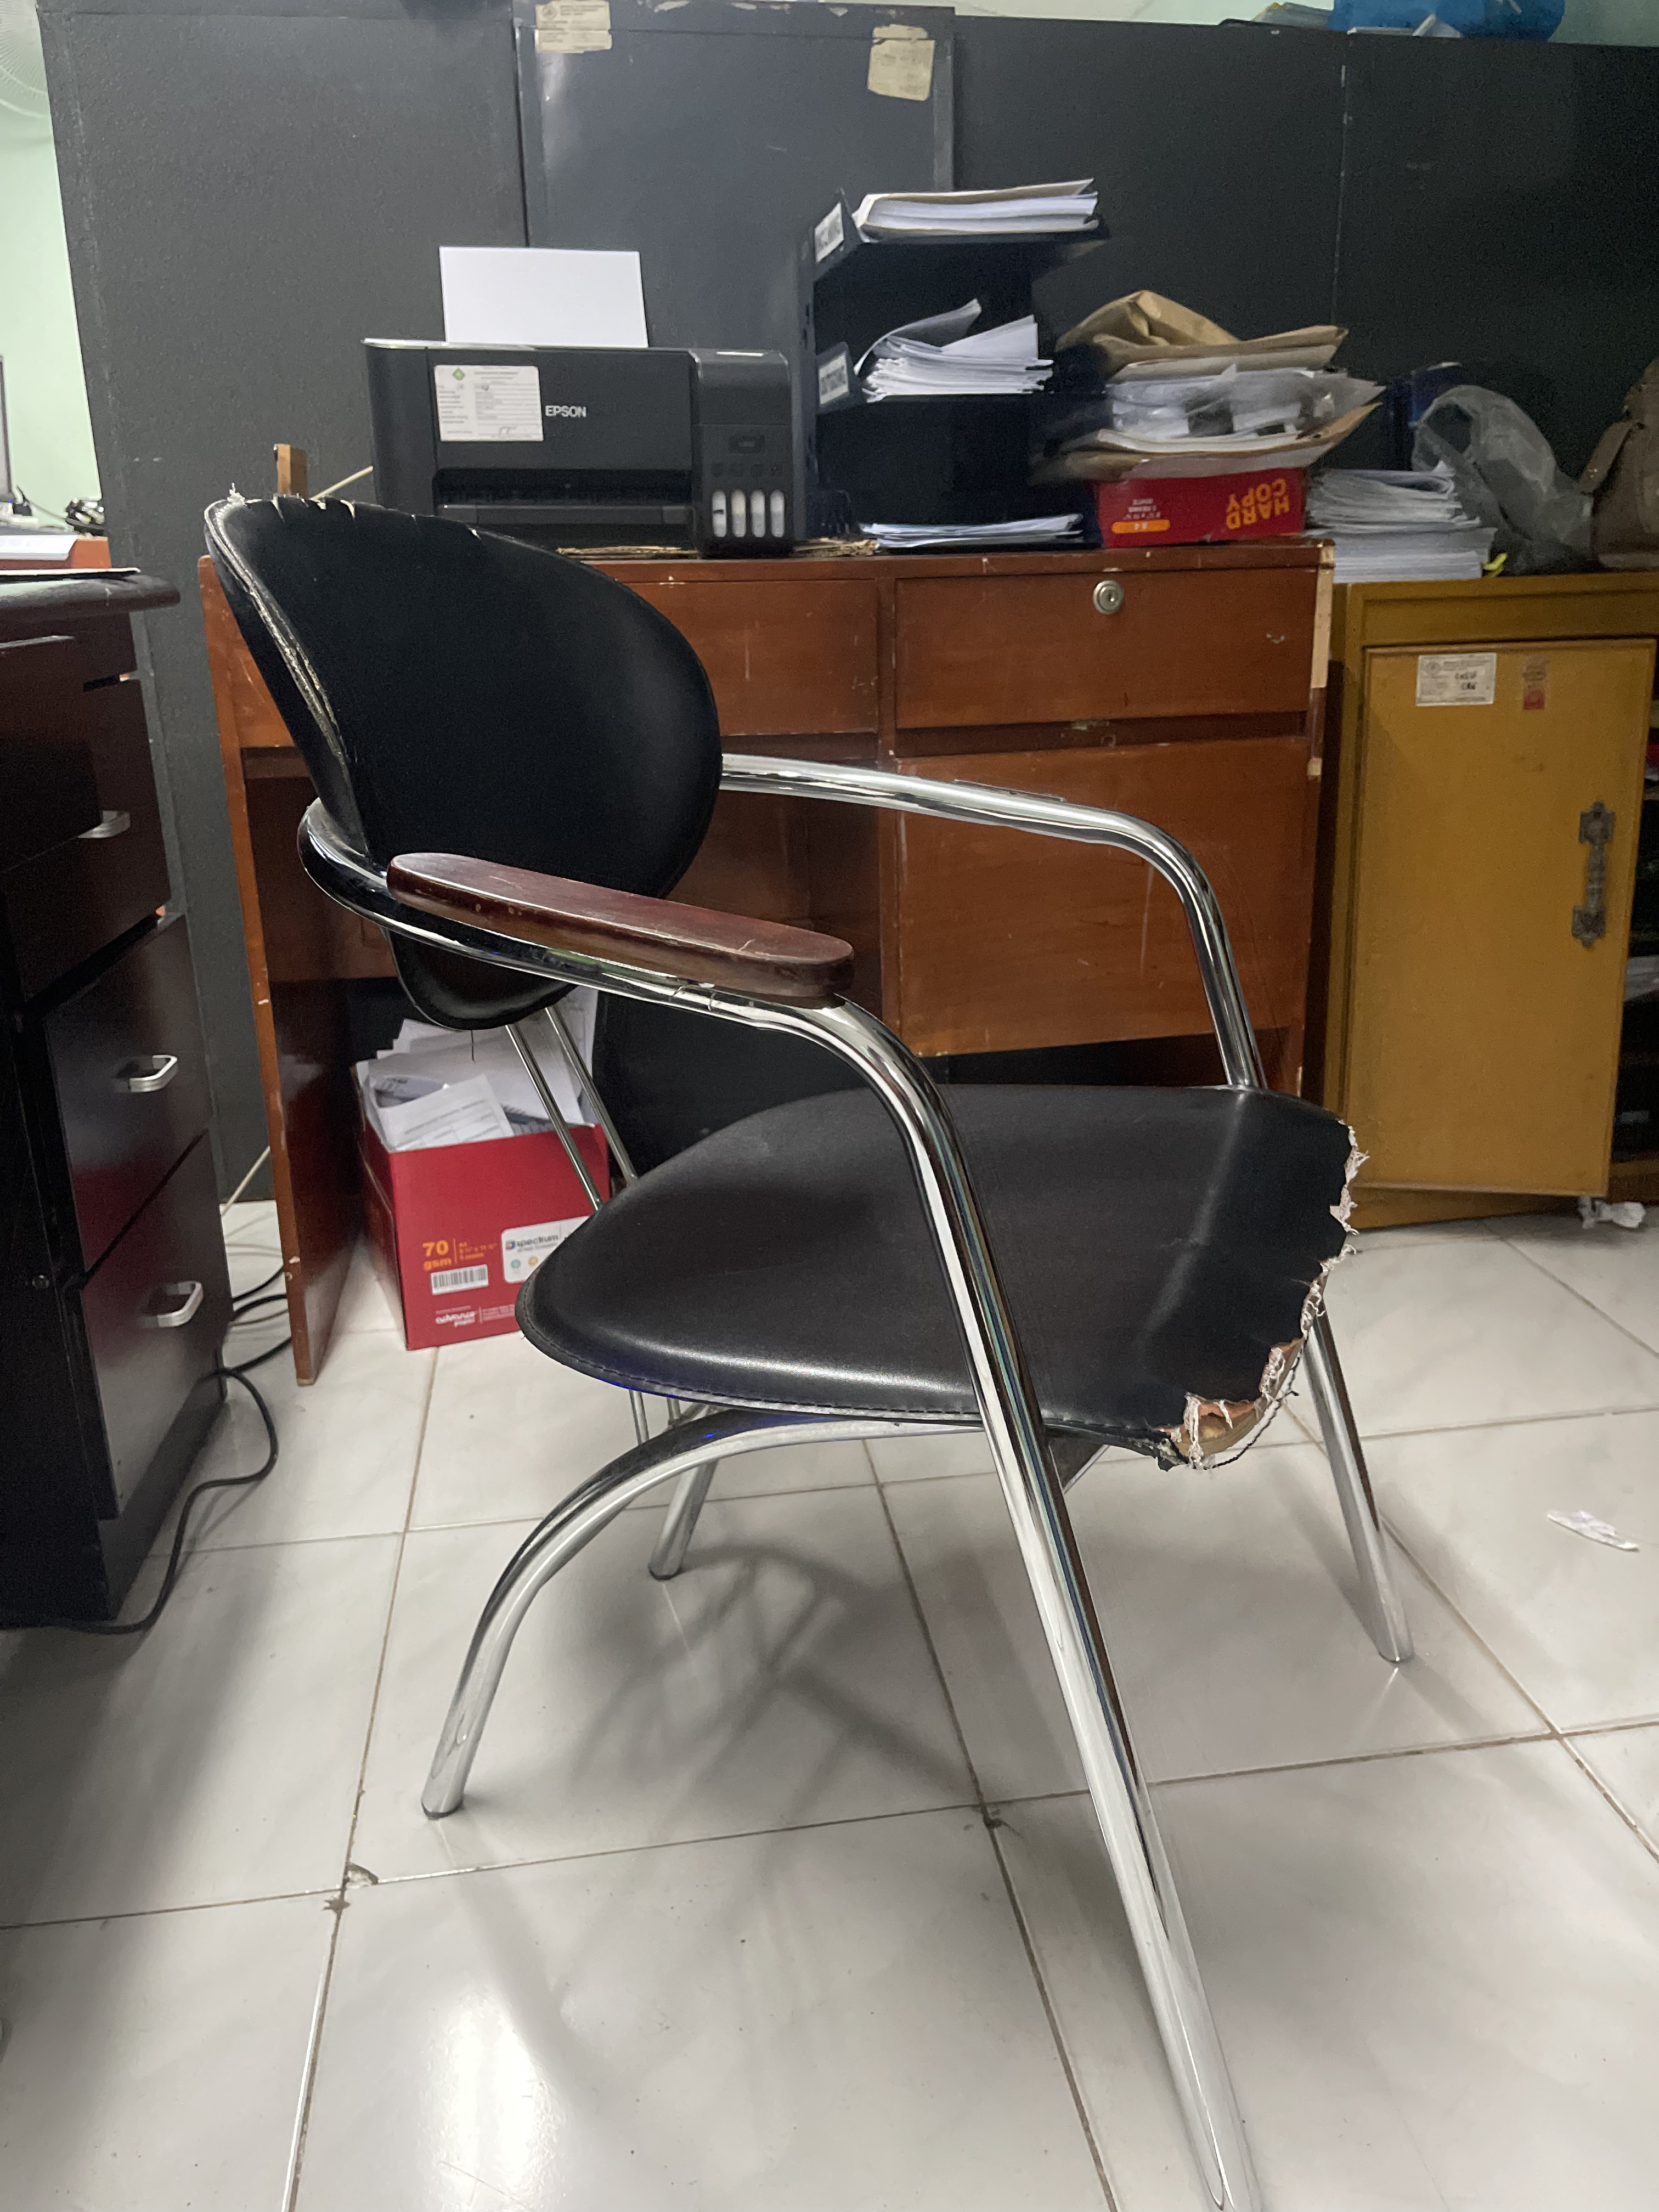chair1: (199, 486, 1431, 2212)
